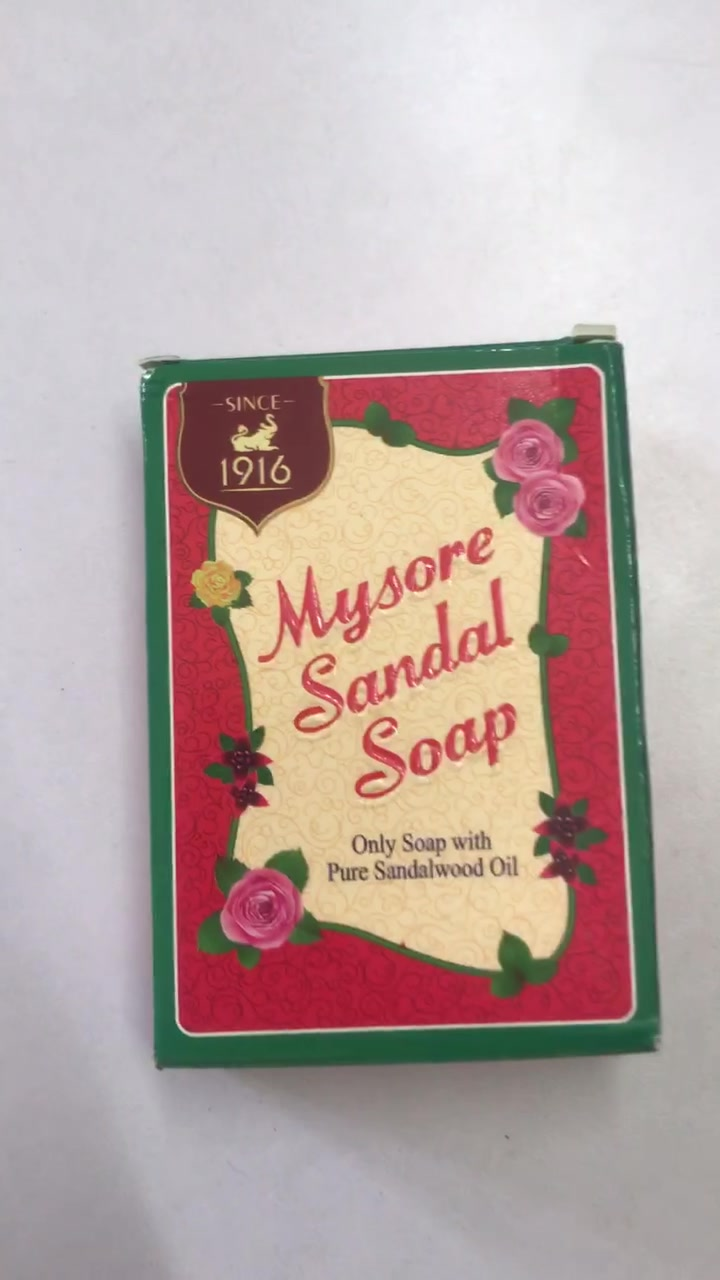mysore sandal soap: (144, 343, 664, 1074)
